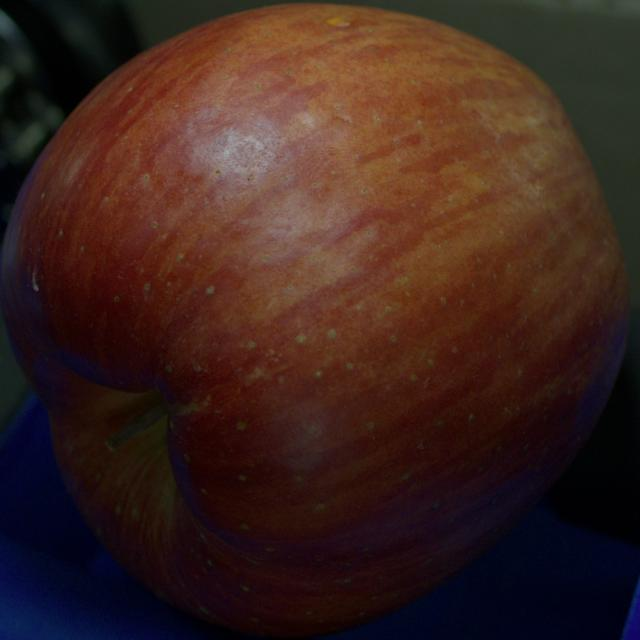apple: (0, 4, 629, 638)
bruise: (328, 16, 350, 27)
scratch: (32, 270, 38, 291)
